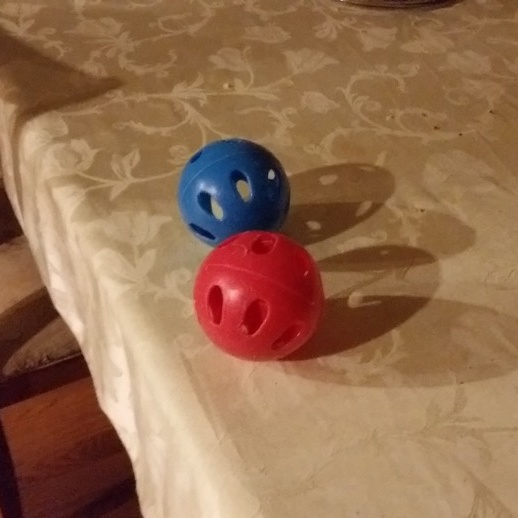ball: (189, 226, 330, 366), (172, 132, 297, 250)
